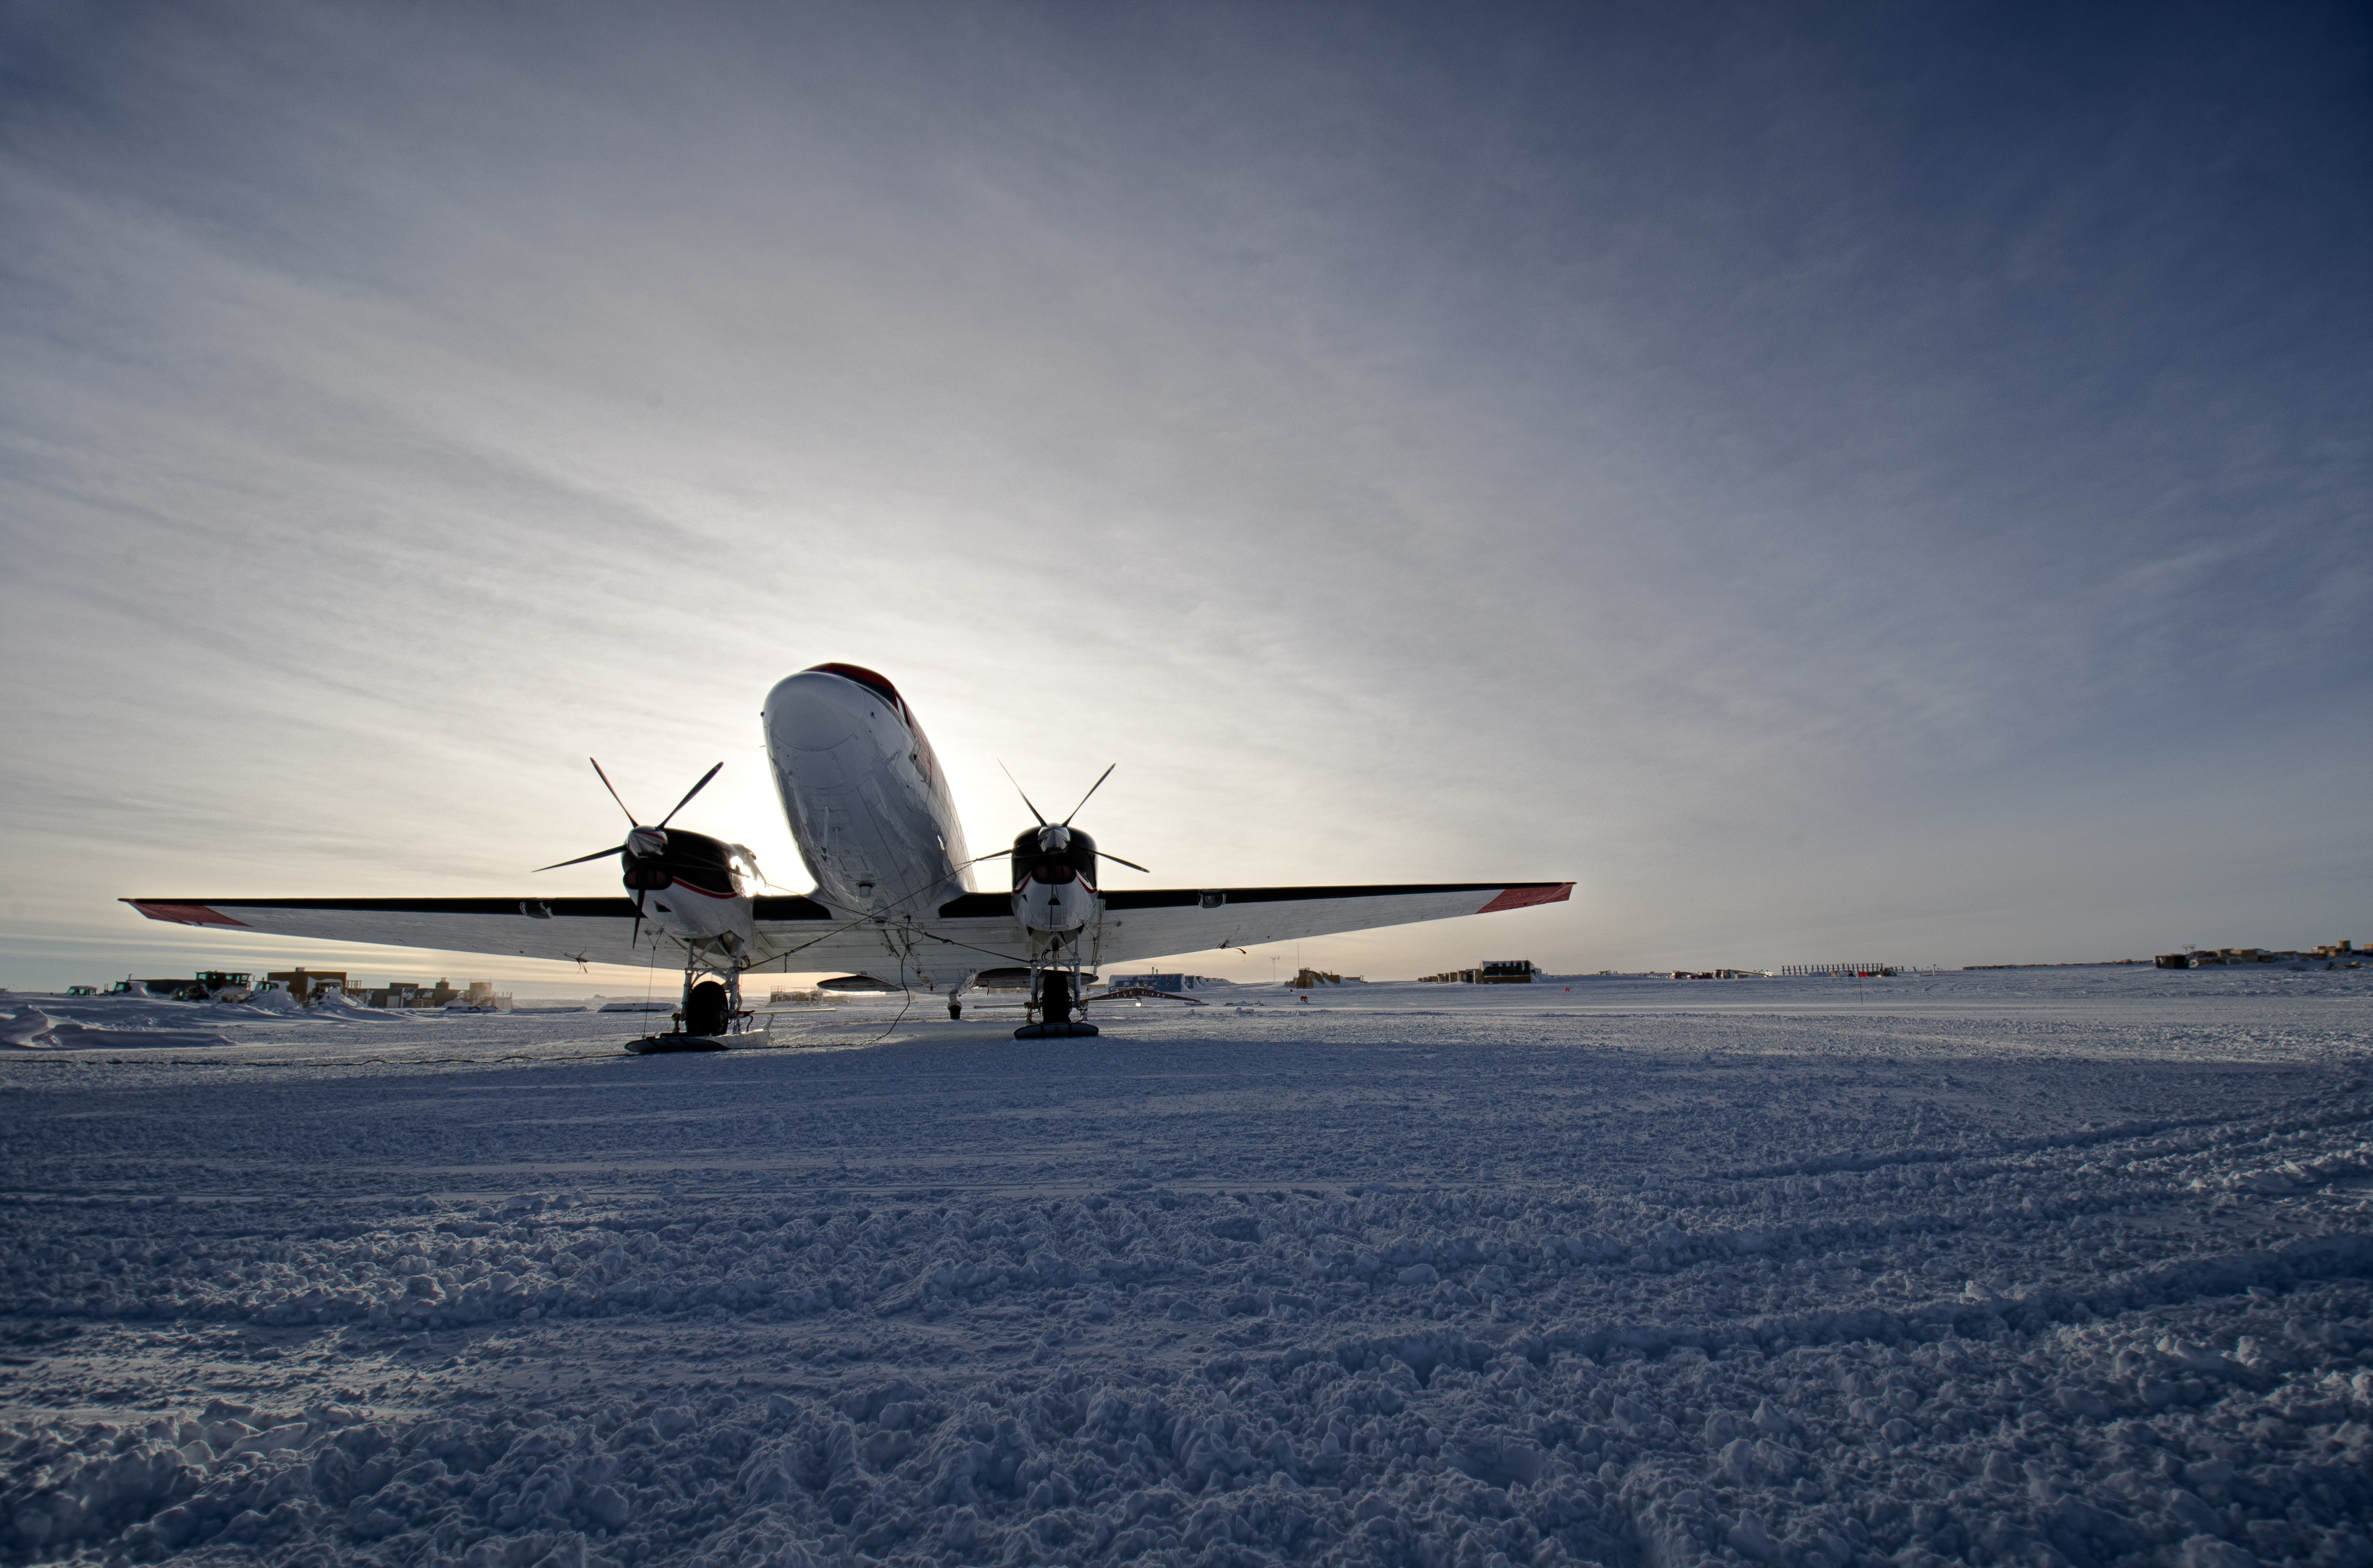airplane: (101, 595, 1692, 1122)
